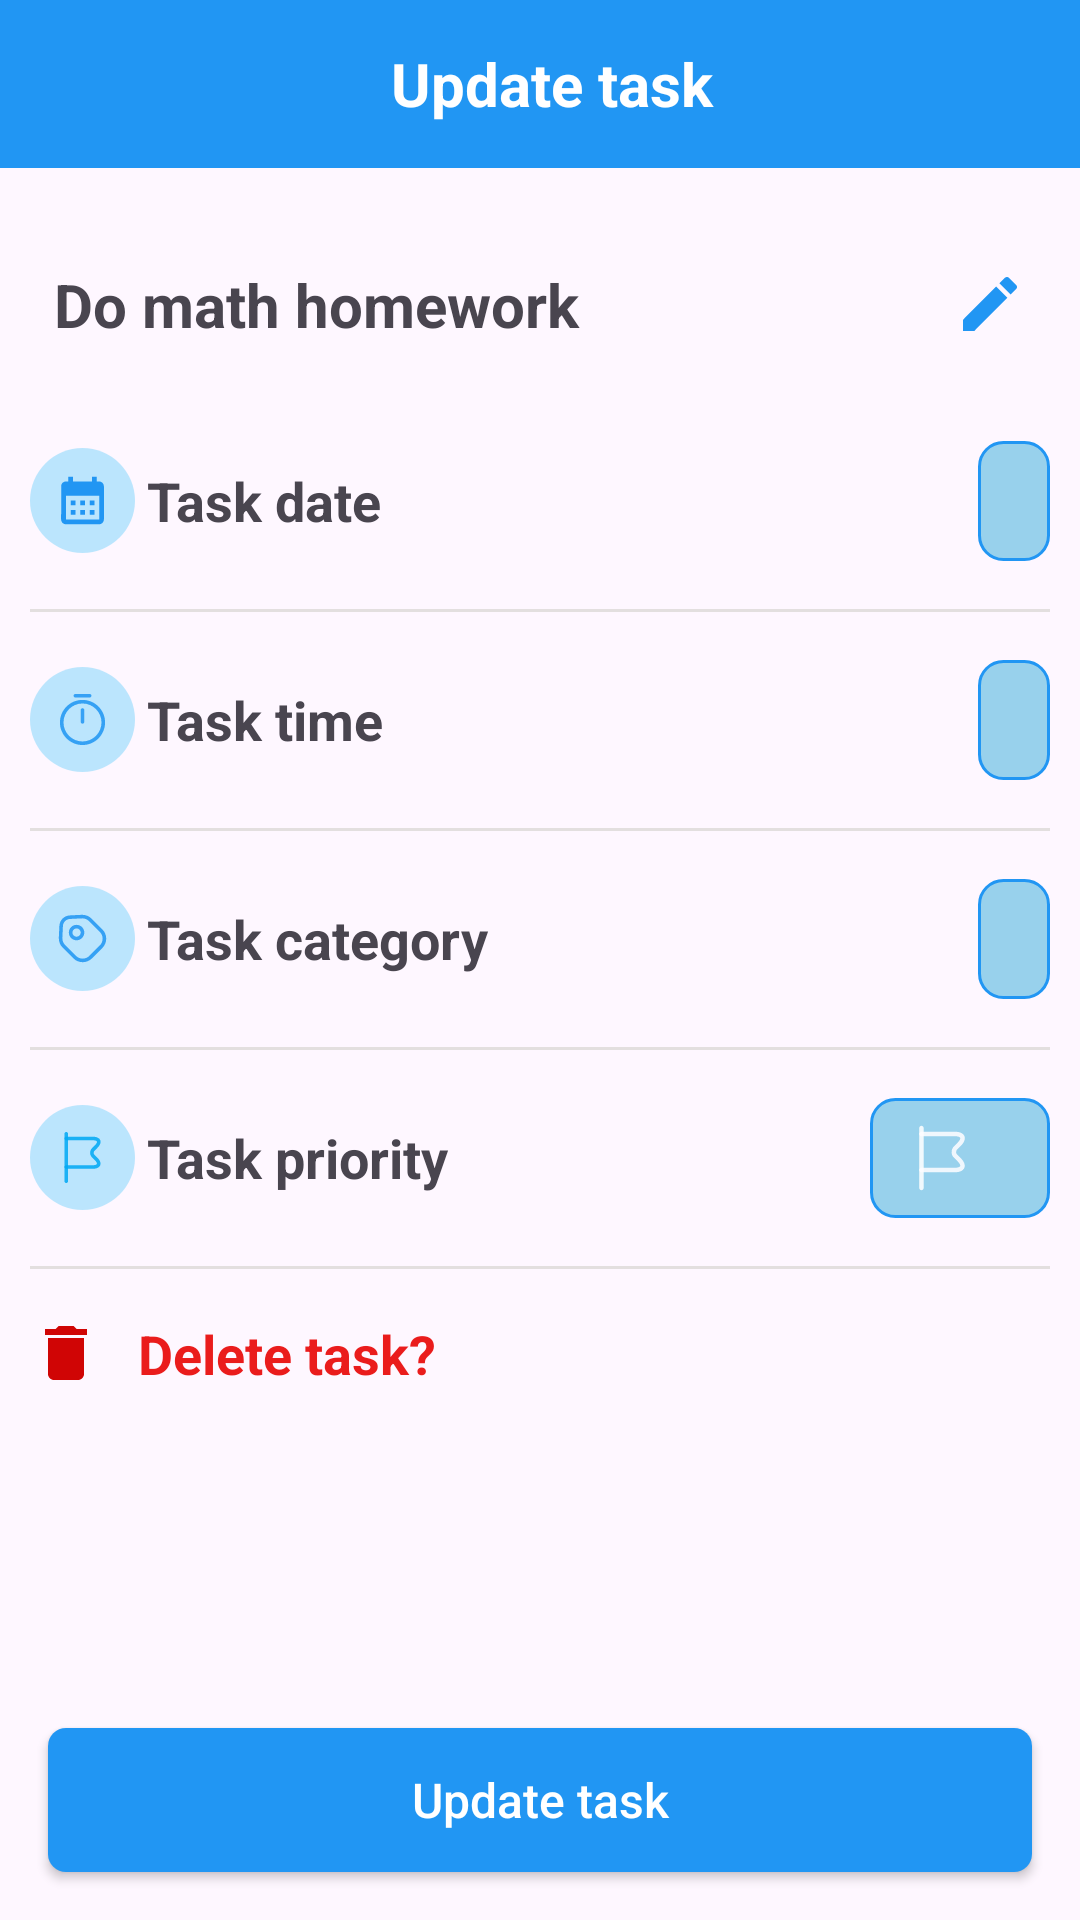

Screen size 1080 x 1920. Icon name, then its center in pixels as (x=x, y=y):
calendar: (x=82, y=500)
flag: (x=82, y=1157)
tag: (x=82, y=938)
timer: (x=82, y=719)
